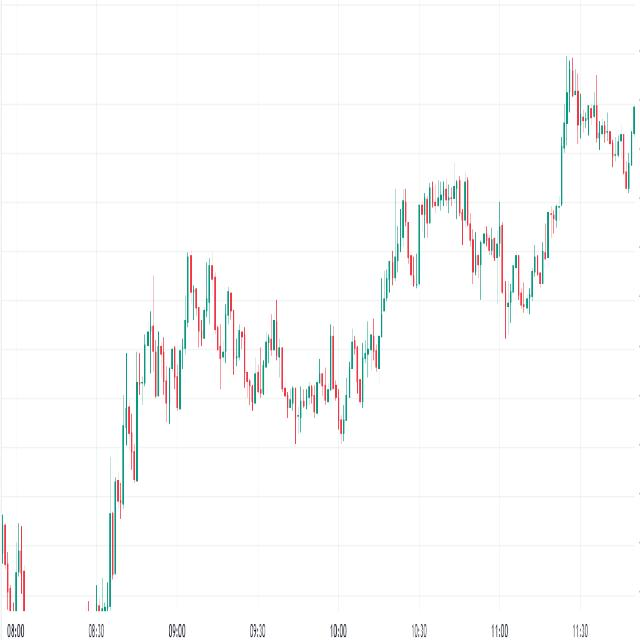Rounding-Bottom: (188, 229, 396, 453), (463, 142, 565, 338)
